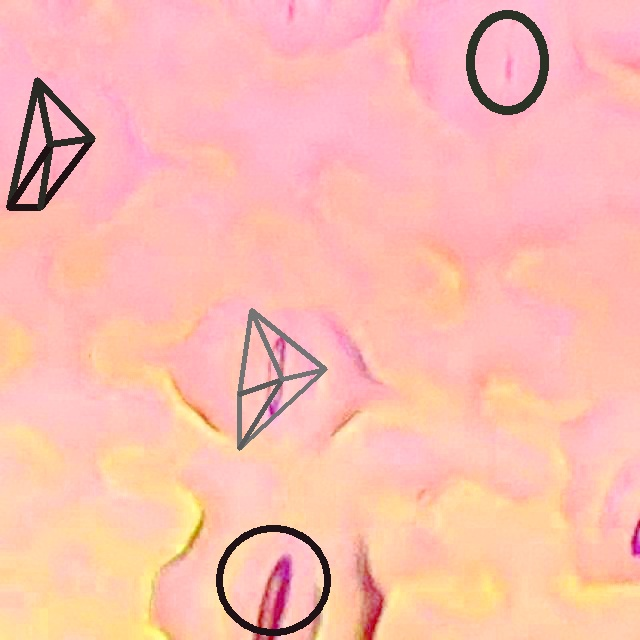close: (6, 77, 95, 210), (464, 9, 550, 116)
open: (214, 523, 331, 636), (237, 308, 327, 450)
